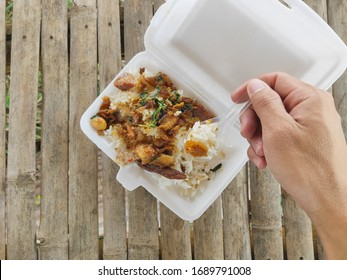Foam Box: (76, 1, 347, 224)
